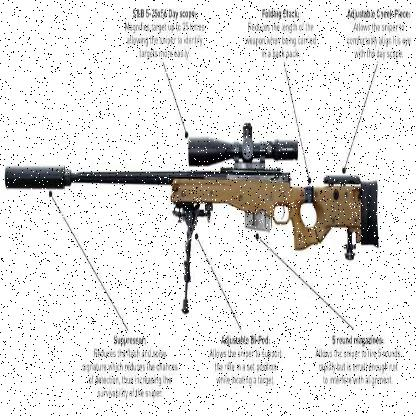rifle: (1, 93, 397, 329)
